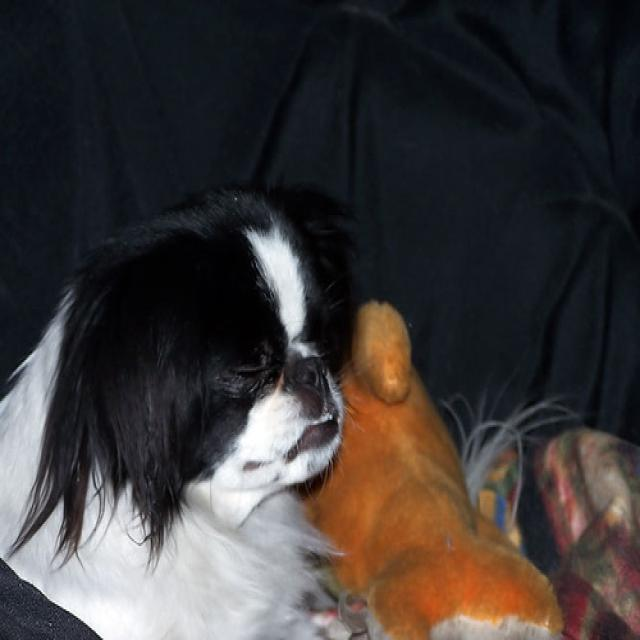dog-japanese_chin: (1, 183, 358, 637)
